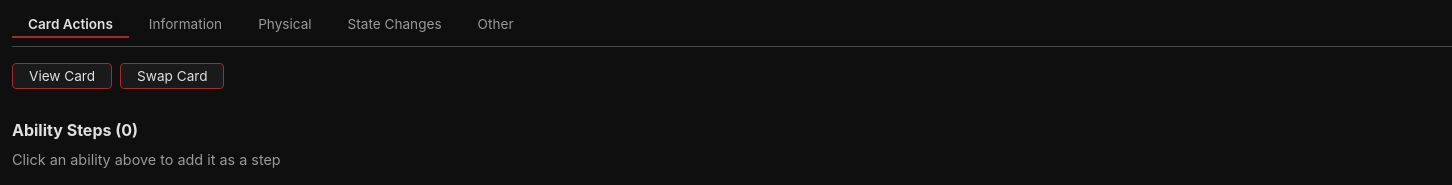
Scenario: AbilitiesStep › rendering › shows empty message when no abilities in category
Click the button "Physical": (285, 25) [242,12,328,38]
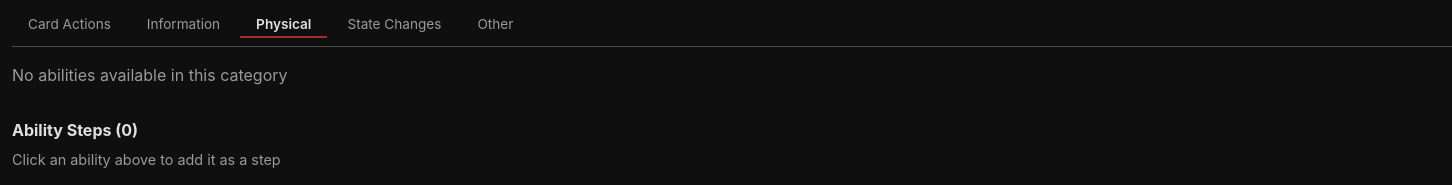
expect the text "No abilities available in this category" is shown: met, box [12,65,288,85]
